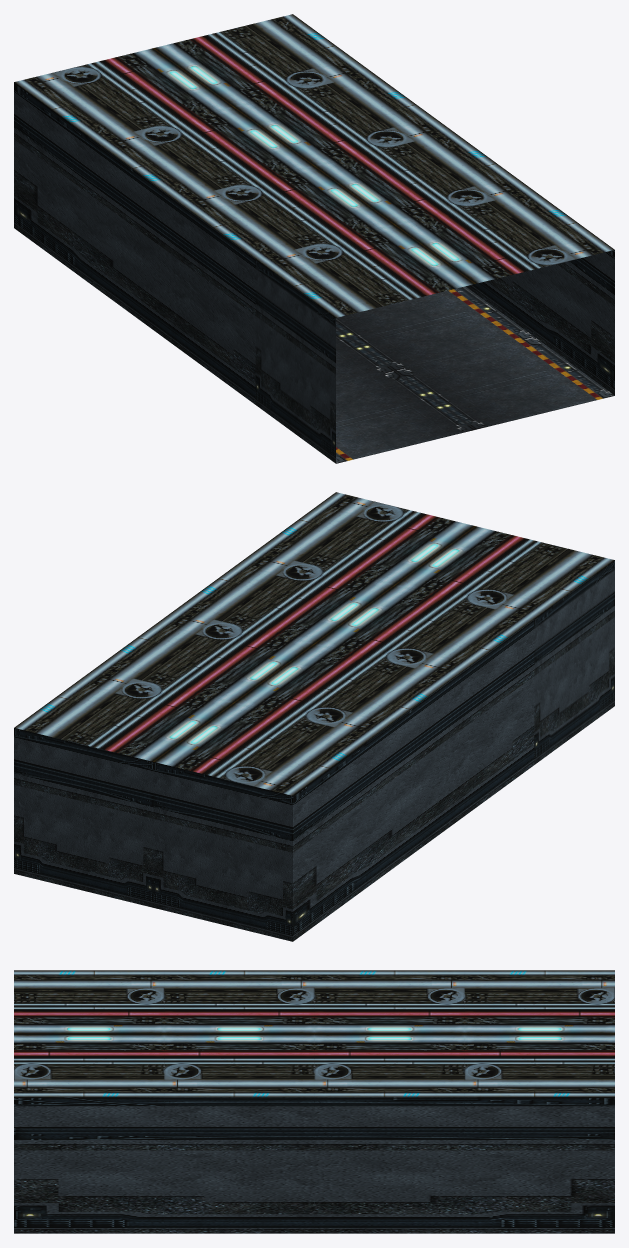
File: pbatun04.FBX
3 views of the same model, one above another, from view 1: azimuth 30°, elevation 25°; view 2: azimuth 150°, elevation 25°; view 3: azimuth 270°, elevation 25° (orthographic). The views are drawn at different scales.
Parts seen in each view (by area): view 1: pbatun04; view 2: pbatun04; view 3: pbatun04.
Boxes of the visible parts, x1,y1,x2,y2 form: pbatun04: [14, 14, 614, 463]; pbatun04: [14, 492, 614, 941]; pbatun04: [14, 970, 614, 1233].
Size of what is drawn, in the model's own units: 16 by 32 by 8.
